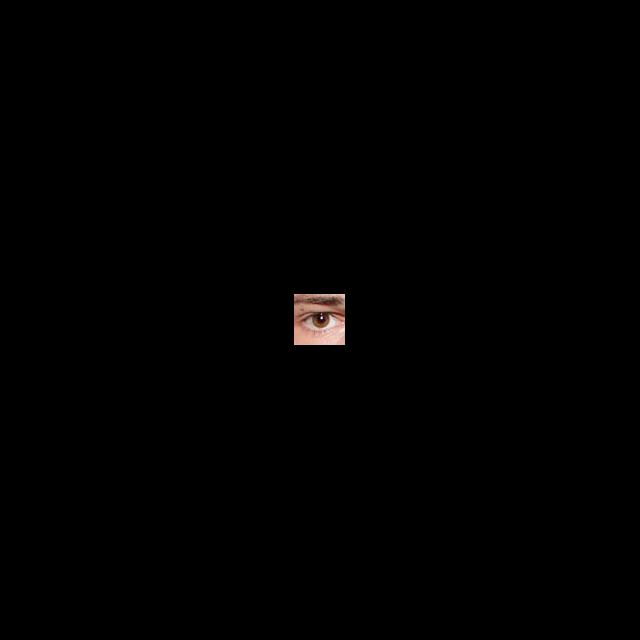eye: (304, 314, 341, 331)
iris: (313, 314, 331, 330)
